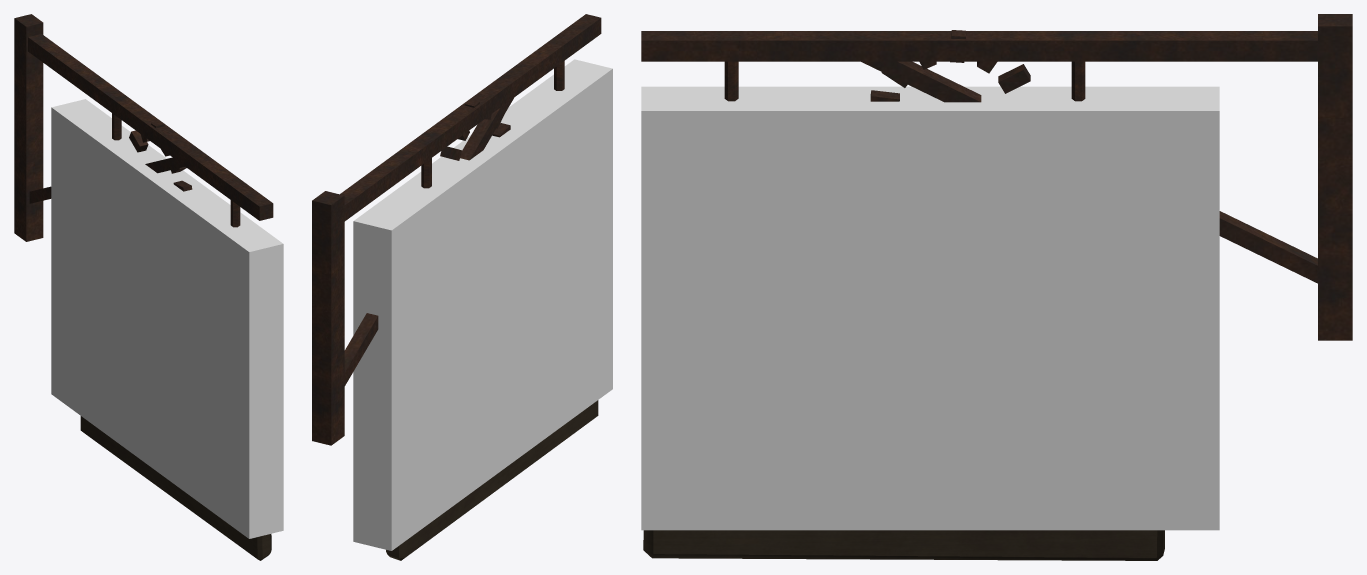
File: ak_bracket_sign_1.glb
3 renders of one model, left to right at view 1: azimuth 30°, elevation 25°; view 2: azimuth 150°, elevation 25°; view 3: azimuth 270°, elevation 25°, orthographic. The views are drawn at different scales.
Visible parts, largest first — view 1: col_sign, bracket, sign_board; view 2: col_sign, bracket, sign_board; view 3: col_sign, bracket, sign_board.
Part boxes in pixels (x1,y1,x2,y2): col_sign: (51, 99, 283, 538); bracket: (14, 14, 273, 241); sign_board: (80, 113, 271, 560); col_sign: (353, 59, 612, 550); bracket: (312, 14, 601, 445); sign_board: (386, 61, 598, 560); col_sign: (641, 86, 1219, 530); bracket: (641, 14, 1352, 340); sign_board: (643, 61, 1164, 560).
Size of the model in its own units: 0.1 by 1.03 by 1.23.
Materials: 2 (2 with a texture image).
